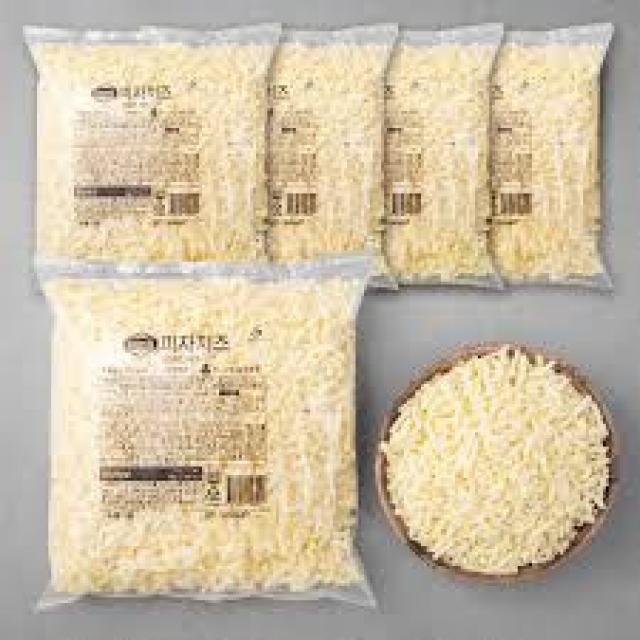cheese: (49, 276, 358, 592), (415, 395, 572, 535)
